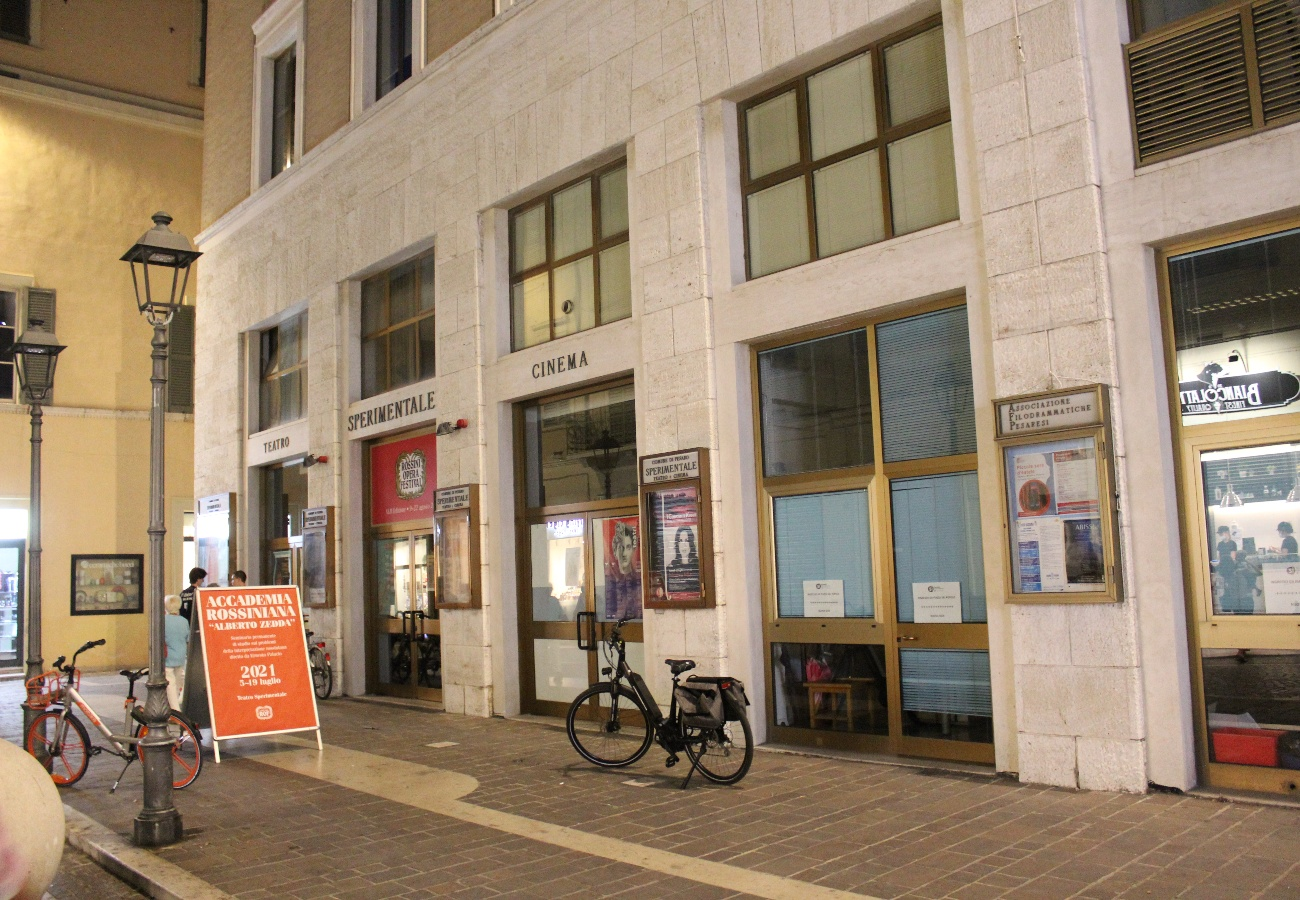Teatro Sperimentale: (190, 1, 1300, 801)
